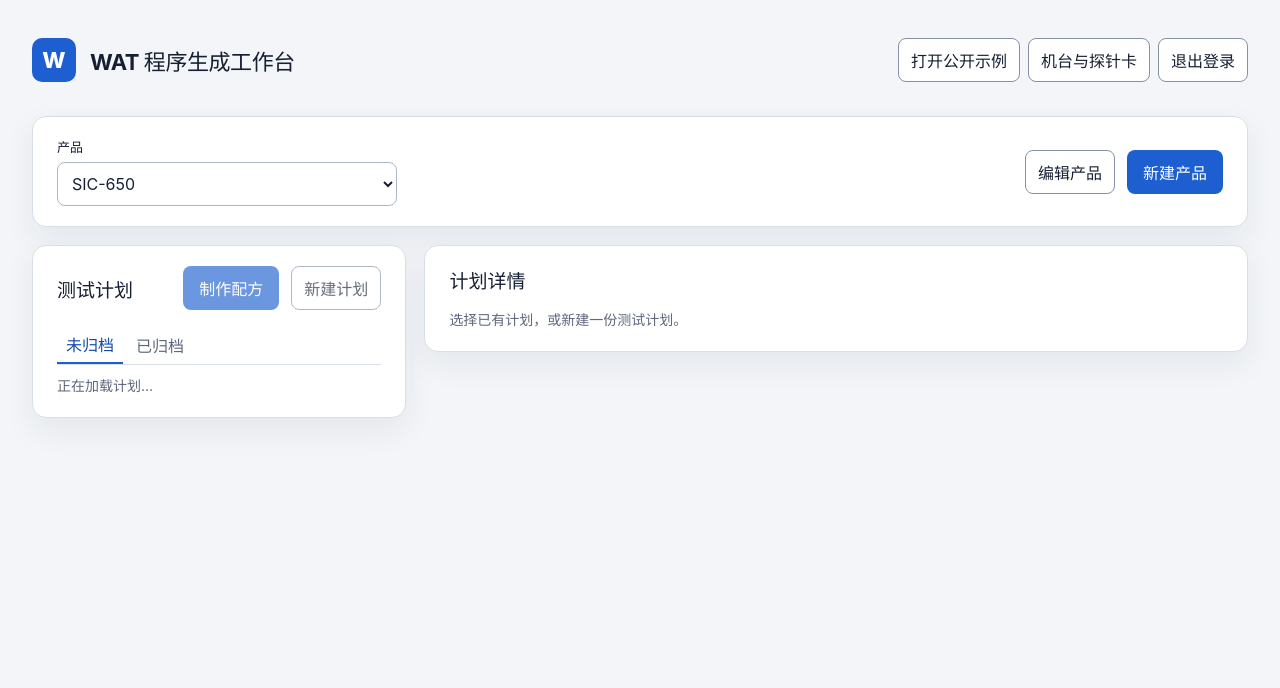
Test: WAT pilot › ignores an expired example request after returning to plan editing
The width and height of the screenshot is (1280, 688).
Later steps or results of the test are not shown.
Click the button "打开公开示例" at {"x": 959, "y": 60}, box [898,38,1020,82]
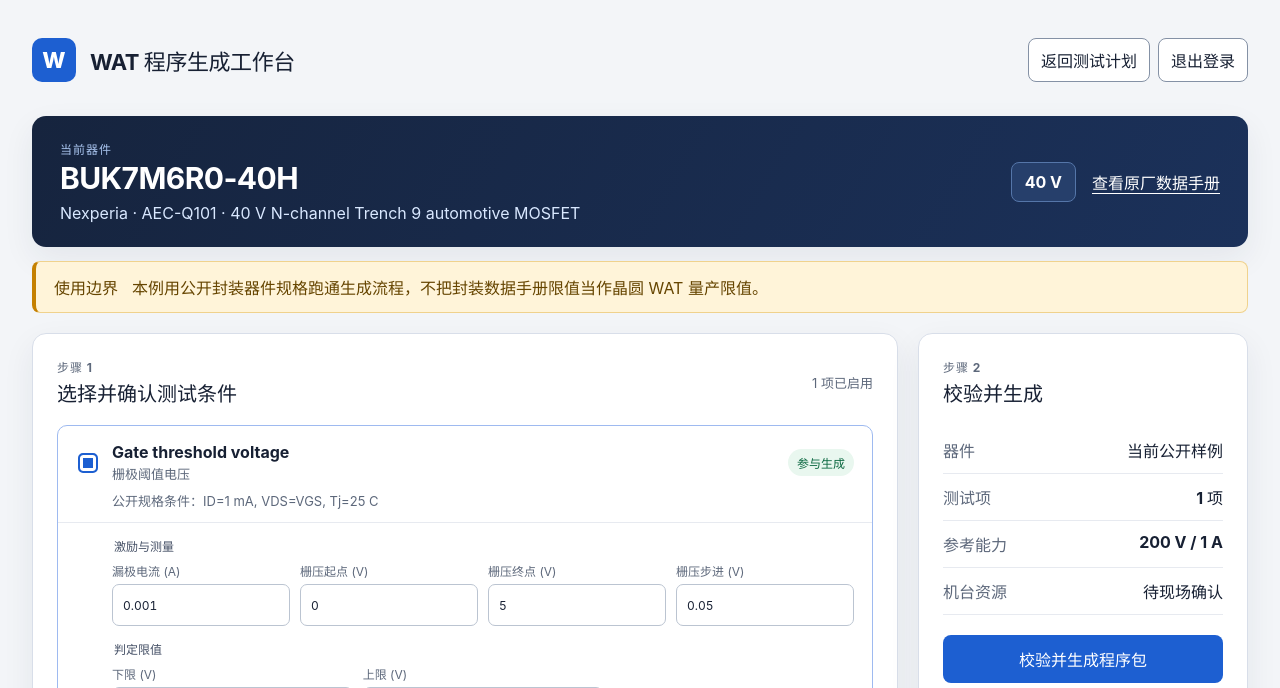
Result: the heading "BUK7M6R0-40H" is shown at [60,160,298,196]
Click the button "校验并生成程序包" at {"x": 1083, "y": 659}, box [943,635,1223,683]
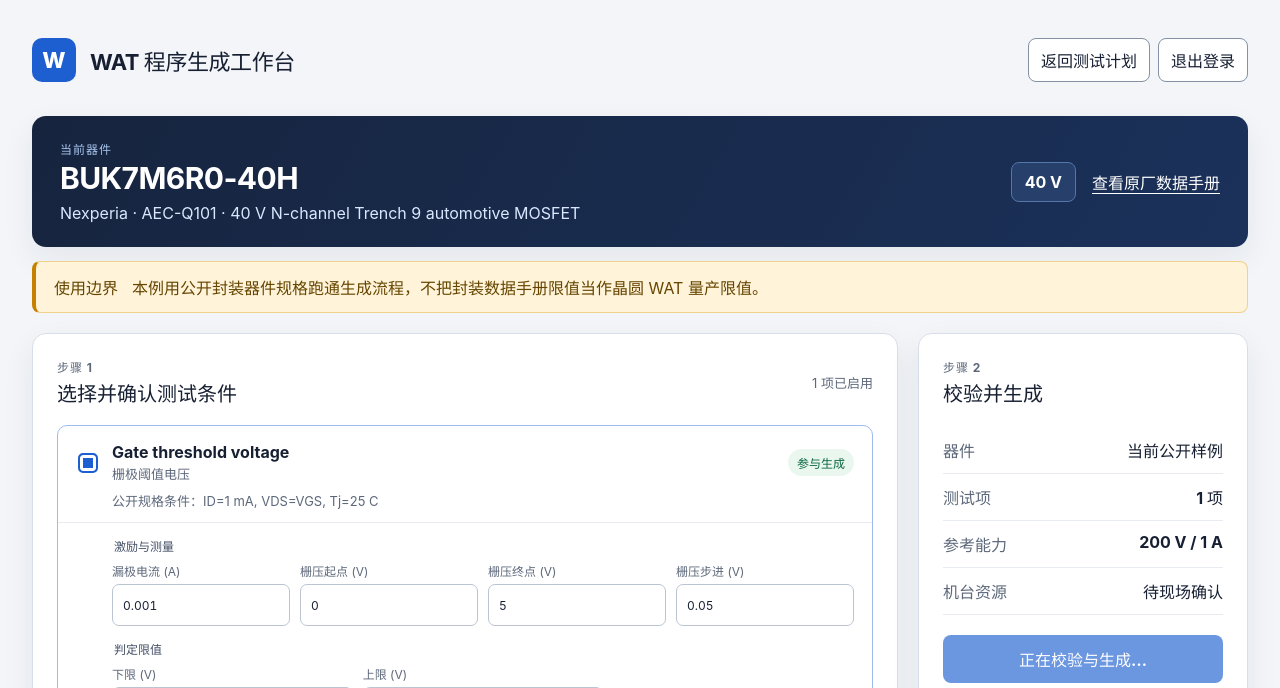
Click the button "返回测试计划" at {"x": 1089, "y": 60}, box [1028,38,1150,82]
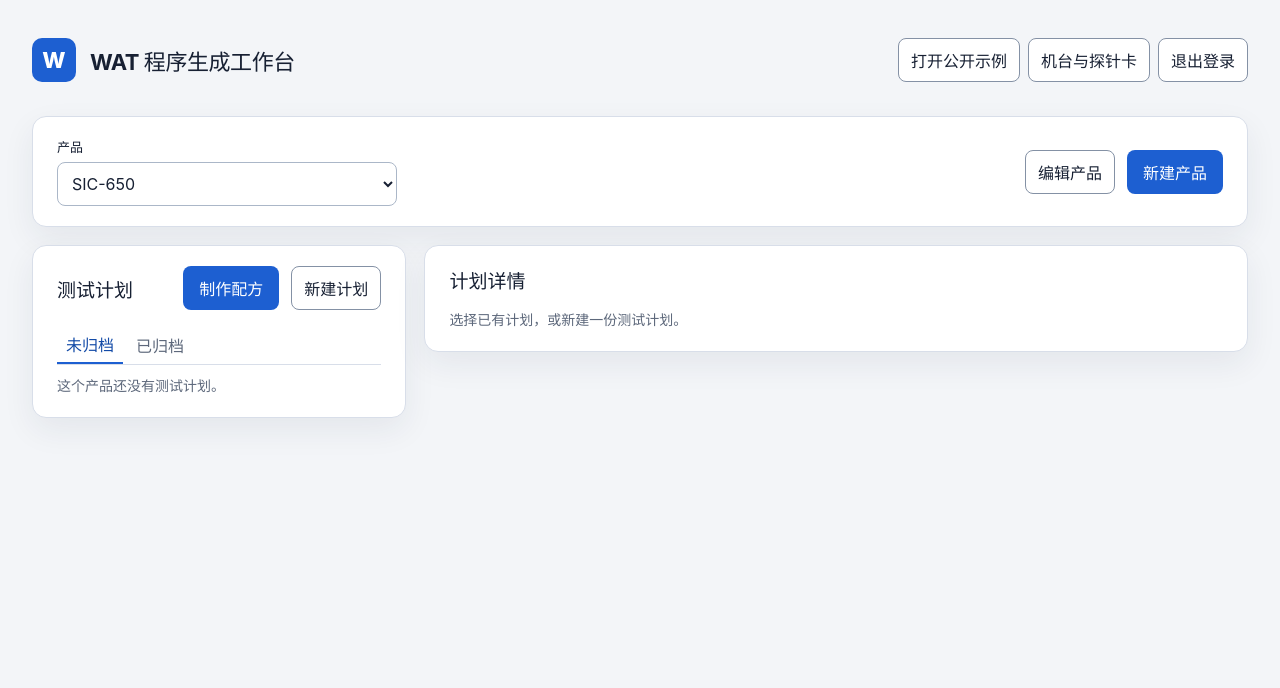
Result: the button "新建计划" is enabled at [291,266,381,310]
